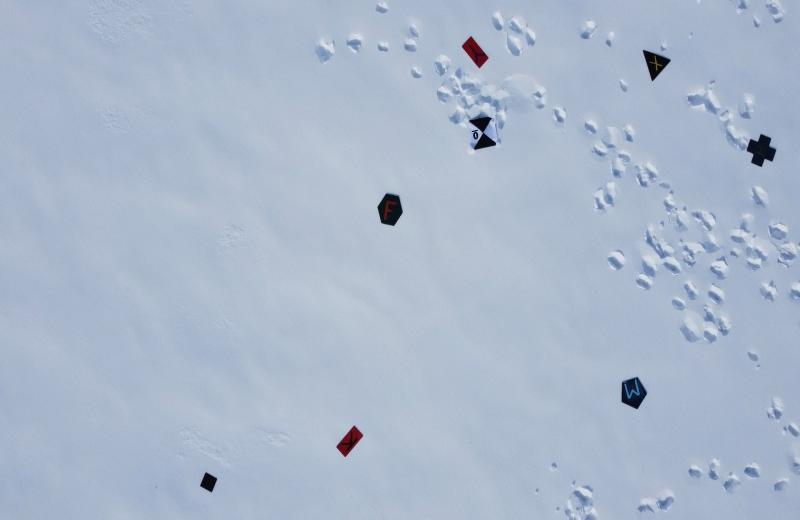Cross: (745, 132, 779, 168)
Hexagon: (374, 189, 405, 230)
Pentagon: (617, 374, 650, 411)
Rectangle: (332, 420, 366, 460), (460, 32, 491, 71)
Square: (196, 468, 220, 496)
Triangle: (639, 46, 671, 85)
